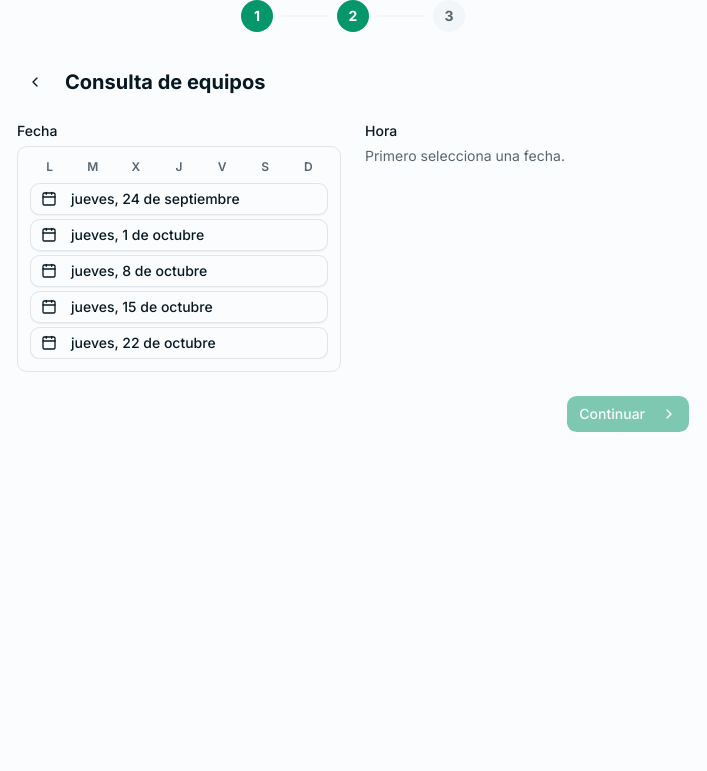
it: BookingFlow - pago PayPal › NO muestra el botón PayPal si paypalEnabled es false
The image size is (707, 771).
Click the button "jueves, 24 de septiembre" at (179, 199), box [30,183,328,215]
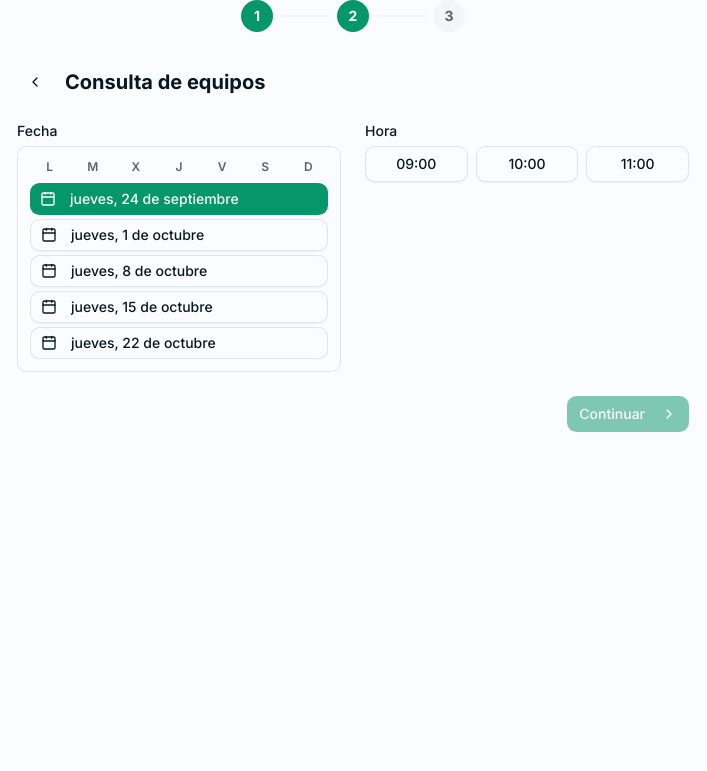
Click the button "09:00" at (416, 164), box [365,146,468,182]
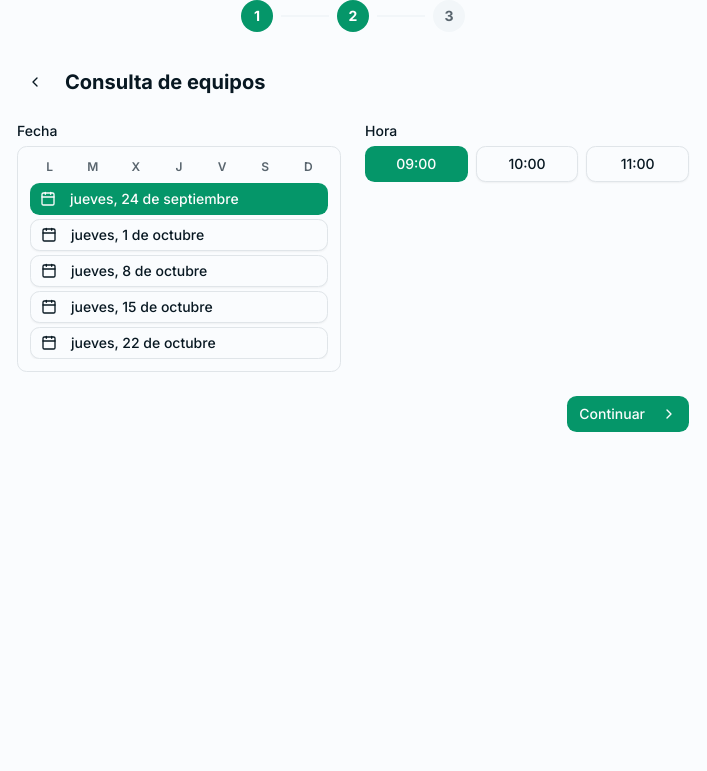
Click the button "Continuar" at (628, 414), box [567,396,689,432]
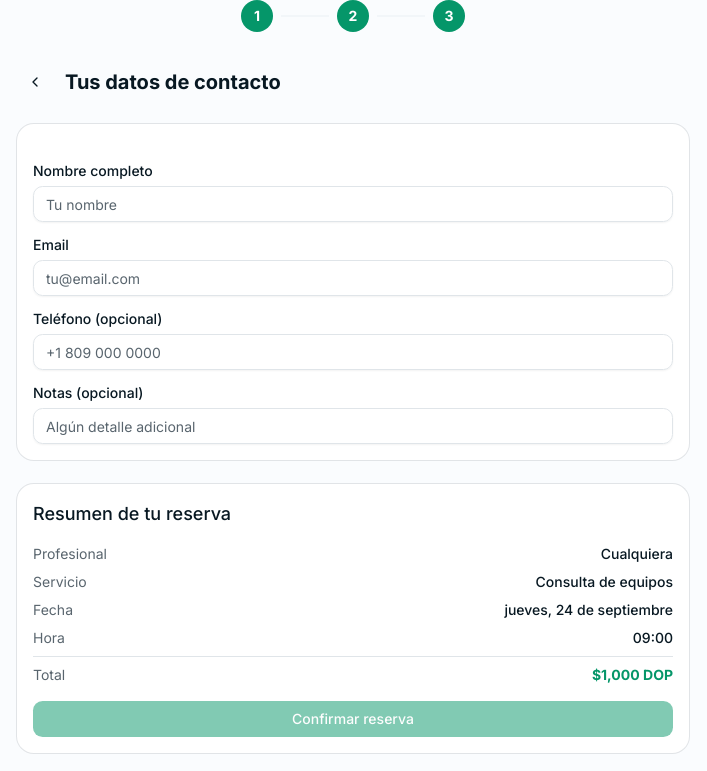
Check: the heading "Tus datos de contacto" is shown, box [65,68,281,96]
